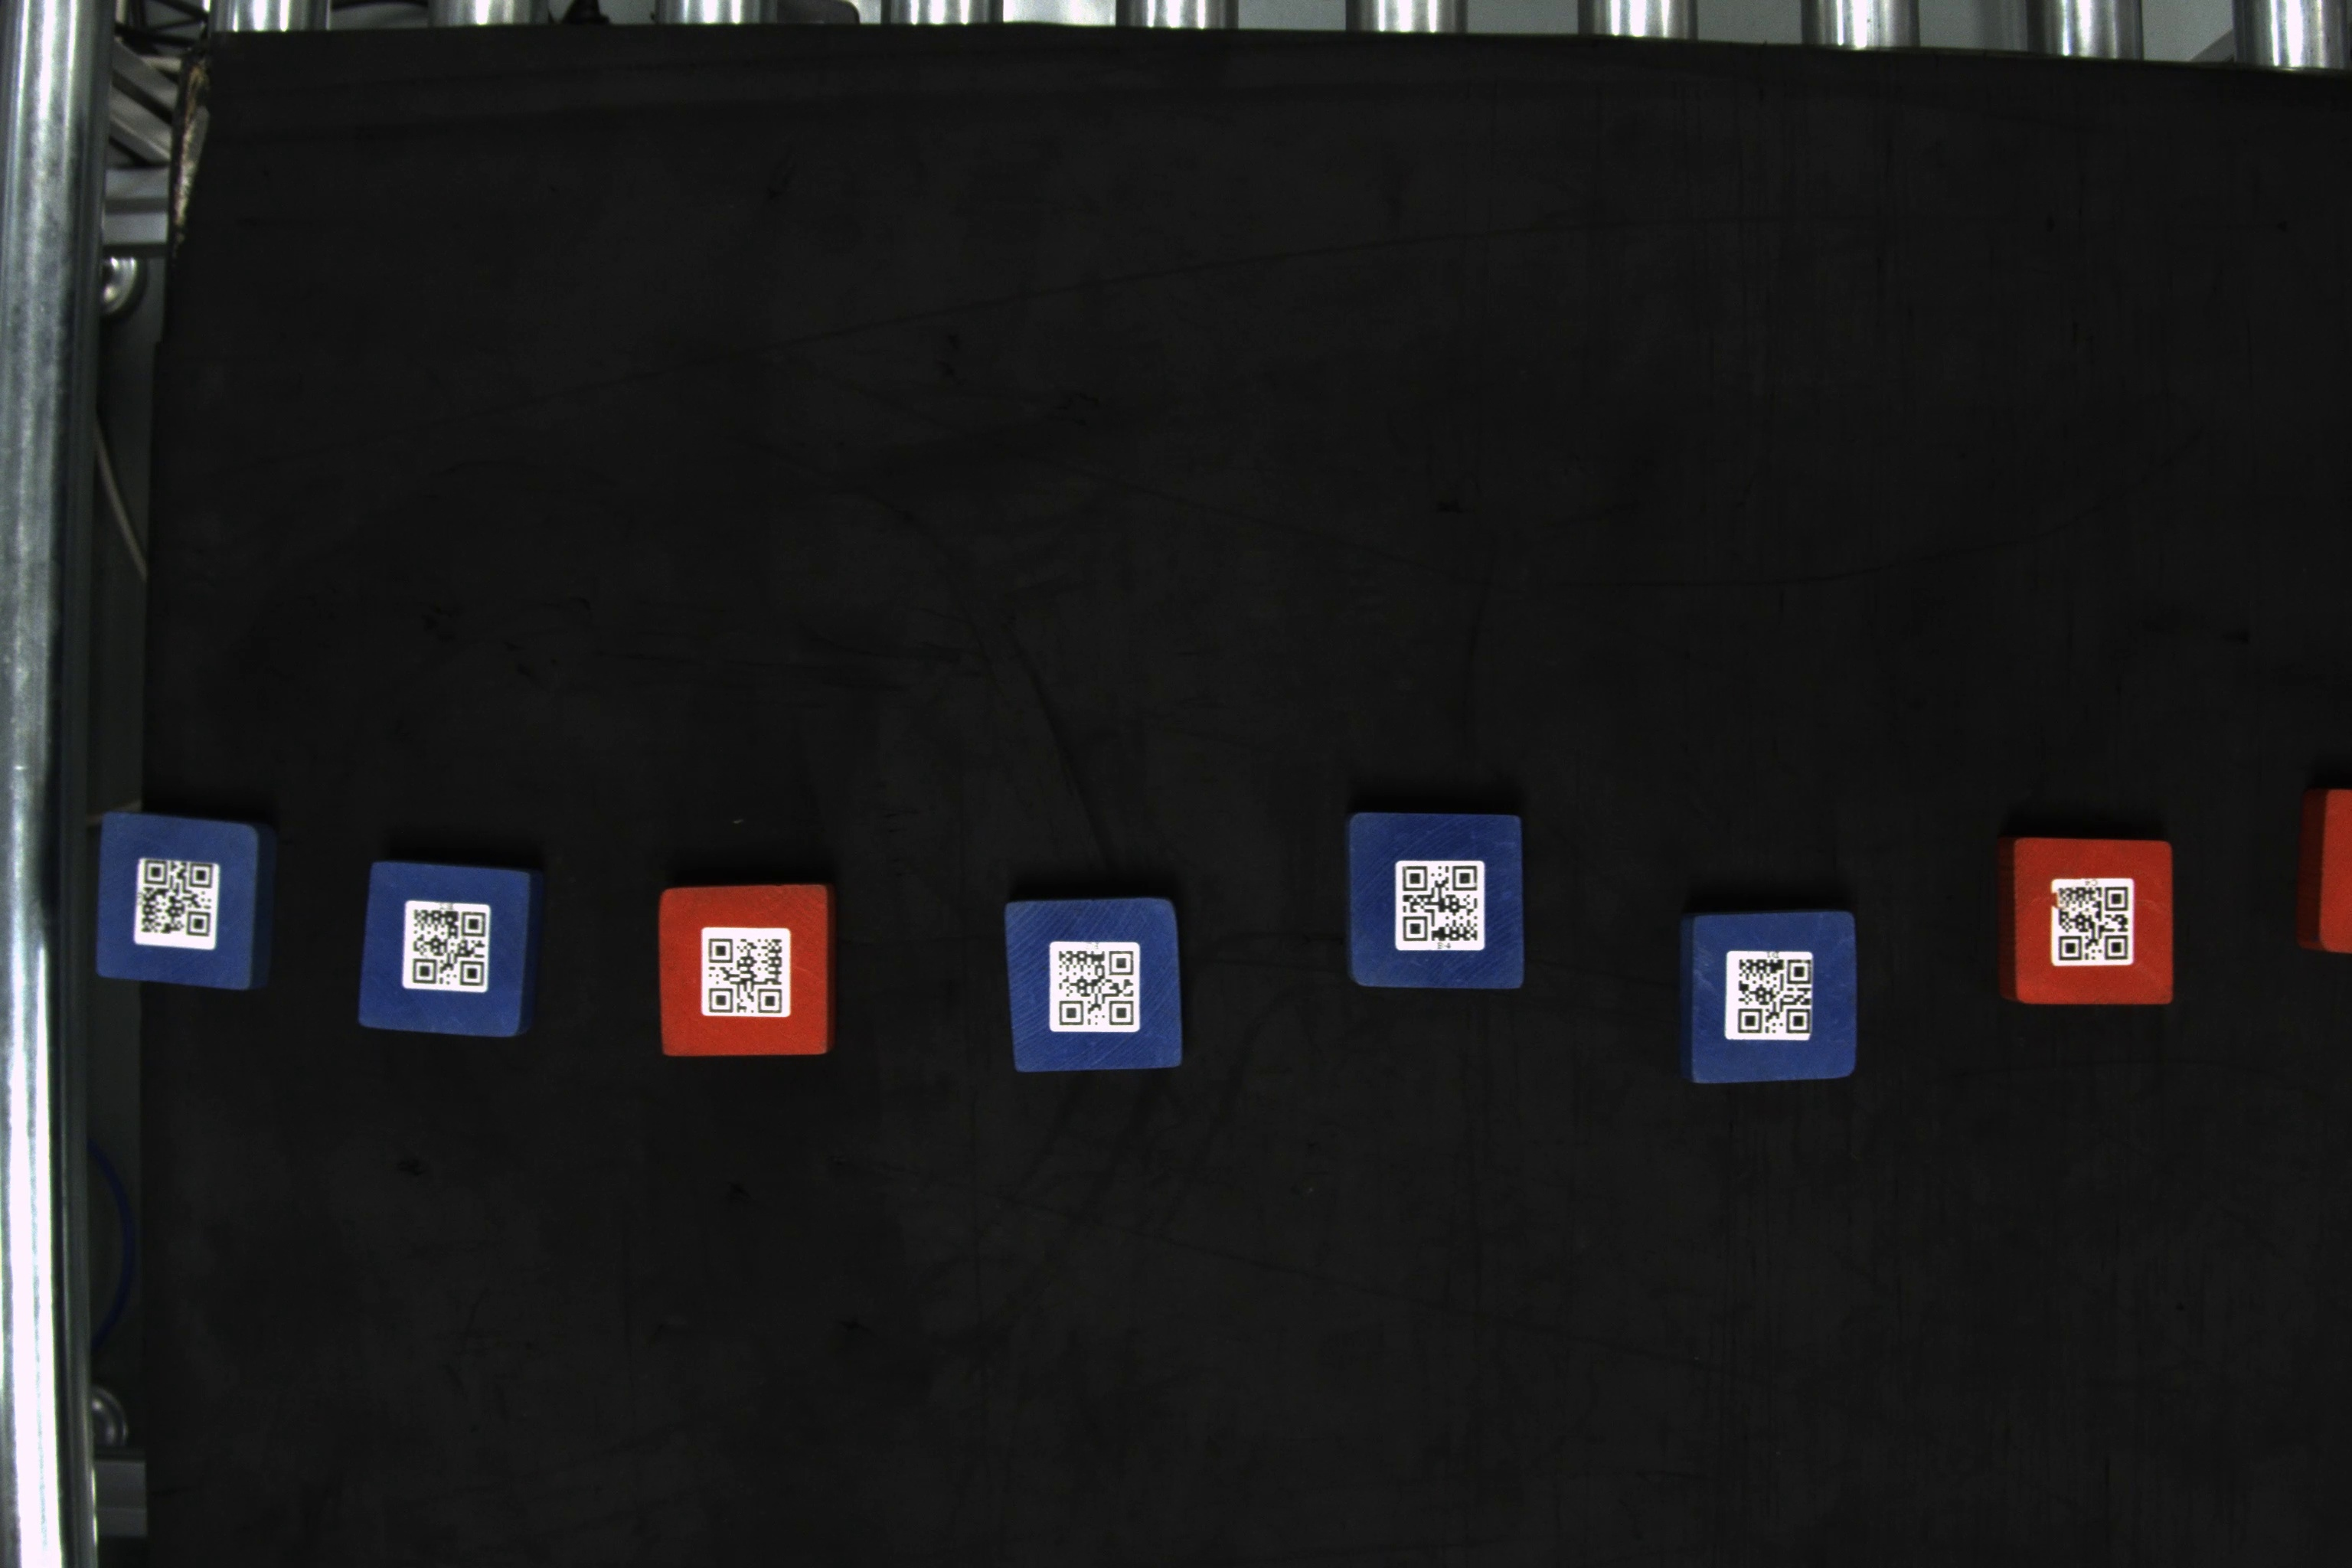wood: (350, 849, 549, 1041), (91, 807, 282, 996), (999, 896, 1190, 1078), (1346, 808, 1531, 992), (651, 885, 840, 1062), (1680, 912, 1865, 1087), (2002, 831, 2180, 1011)
